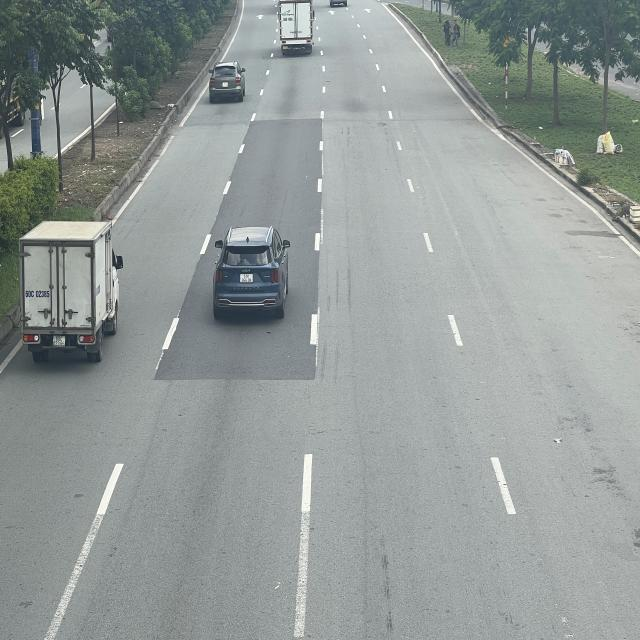car: (212, 227, 291, 316), (207, 61, 246, 101)
truck: (19, 220, 126, 362), (277, 0, 315, 52)
